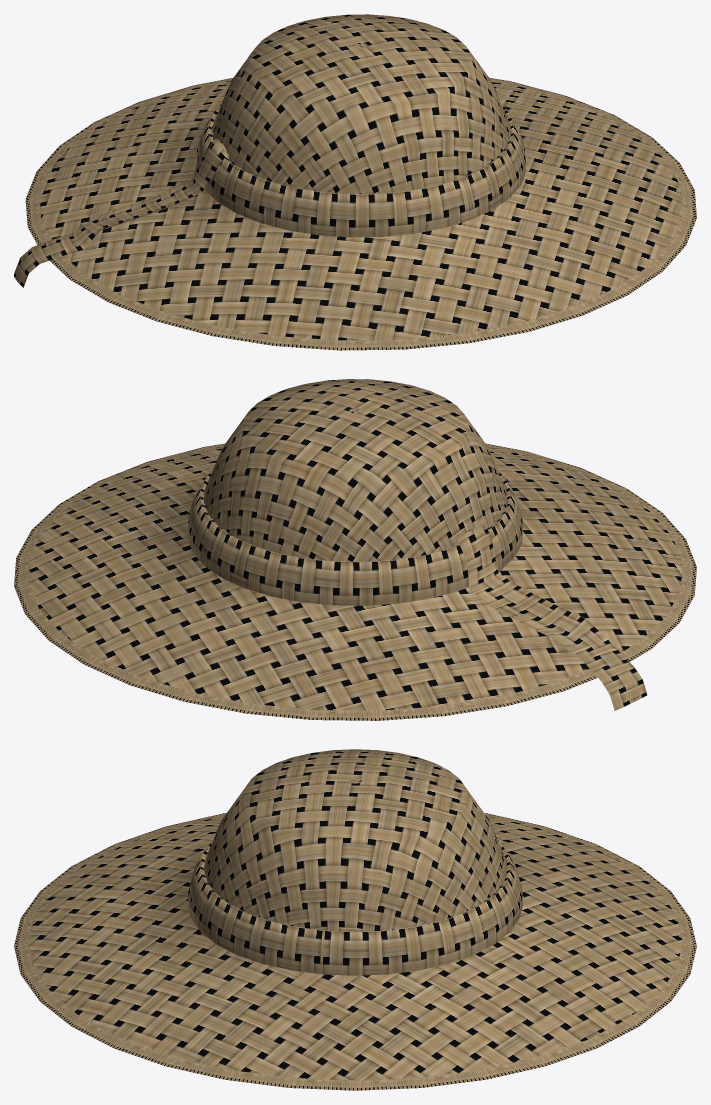
Rendered from straw_hat.glb.
The picture shows the model from 3 angles, top to bottom: view 1: azimuth 30°, elevation 25°; view 2: azimuth 150°, elevation 25°; view 3: azimuth 270°, elevation 25°; orthographic projection.
Parts seen in each view (by area): view 1: Circle; view 2: Circle; view 3: Circle.
Part boxes in pixels (x1,y1,x2,y2): Circle: (14, 14, 696, 350); Circle: (14, 379, 696, 720); Circle: (14, 749, 696, 1090).
Size of the model in its own units: 0.45 by 0.134 by 0.4343.
Materials: 2 (2 with a texture image).
